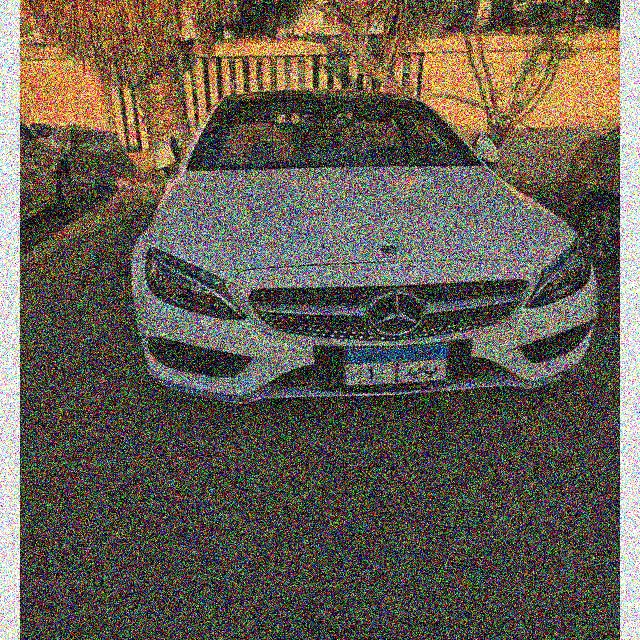License Plate: (341, 343, 453, 390)
